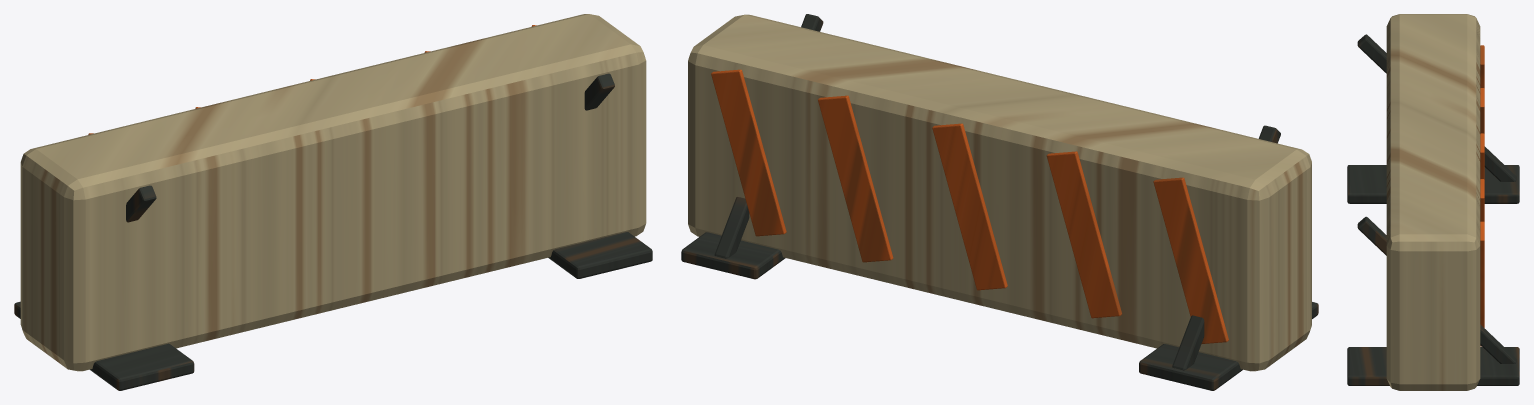
Rendered from convoy-barrier.obj.
3 views of the same model, side by side, from view 1: azimuth 30°, elevation 25°; view 2: azimuth 150°, elevation 25°; view 3: azimuth 270°, elevation 25° (orthographic). The views are drawn at different scales.
Parts seen in each view (by area): view 1: convoy-barrier; view 2: convoy-barrier; view 3: convoy-barrier.
Part boxes in pixels (x1=…): convoy-barrier: x1=14, y1=14, x2=652, y2=390; convoy-barrier: x1=681, y1=14, x2=1318, y2=390; convoy-barrier: x1=1347, y1=14, x2=1519, y2=390.
Bounding box in the file's own units: 3.8 × 1.2 × 1.2.
